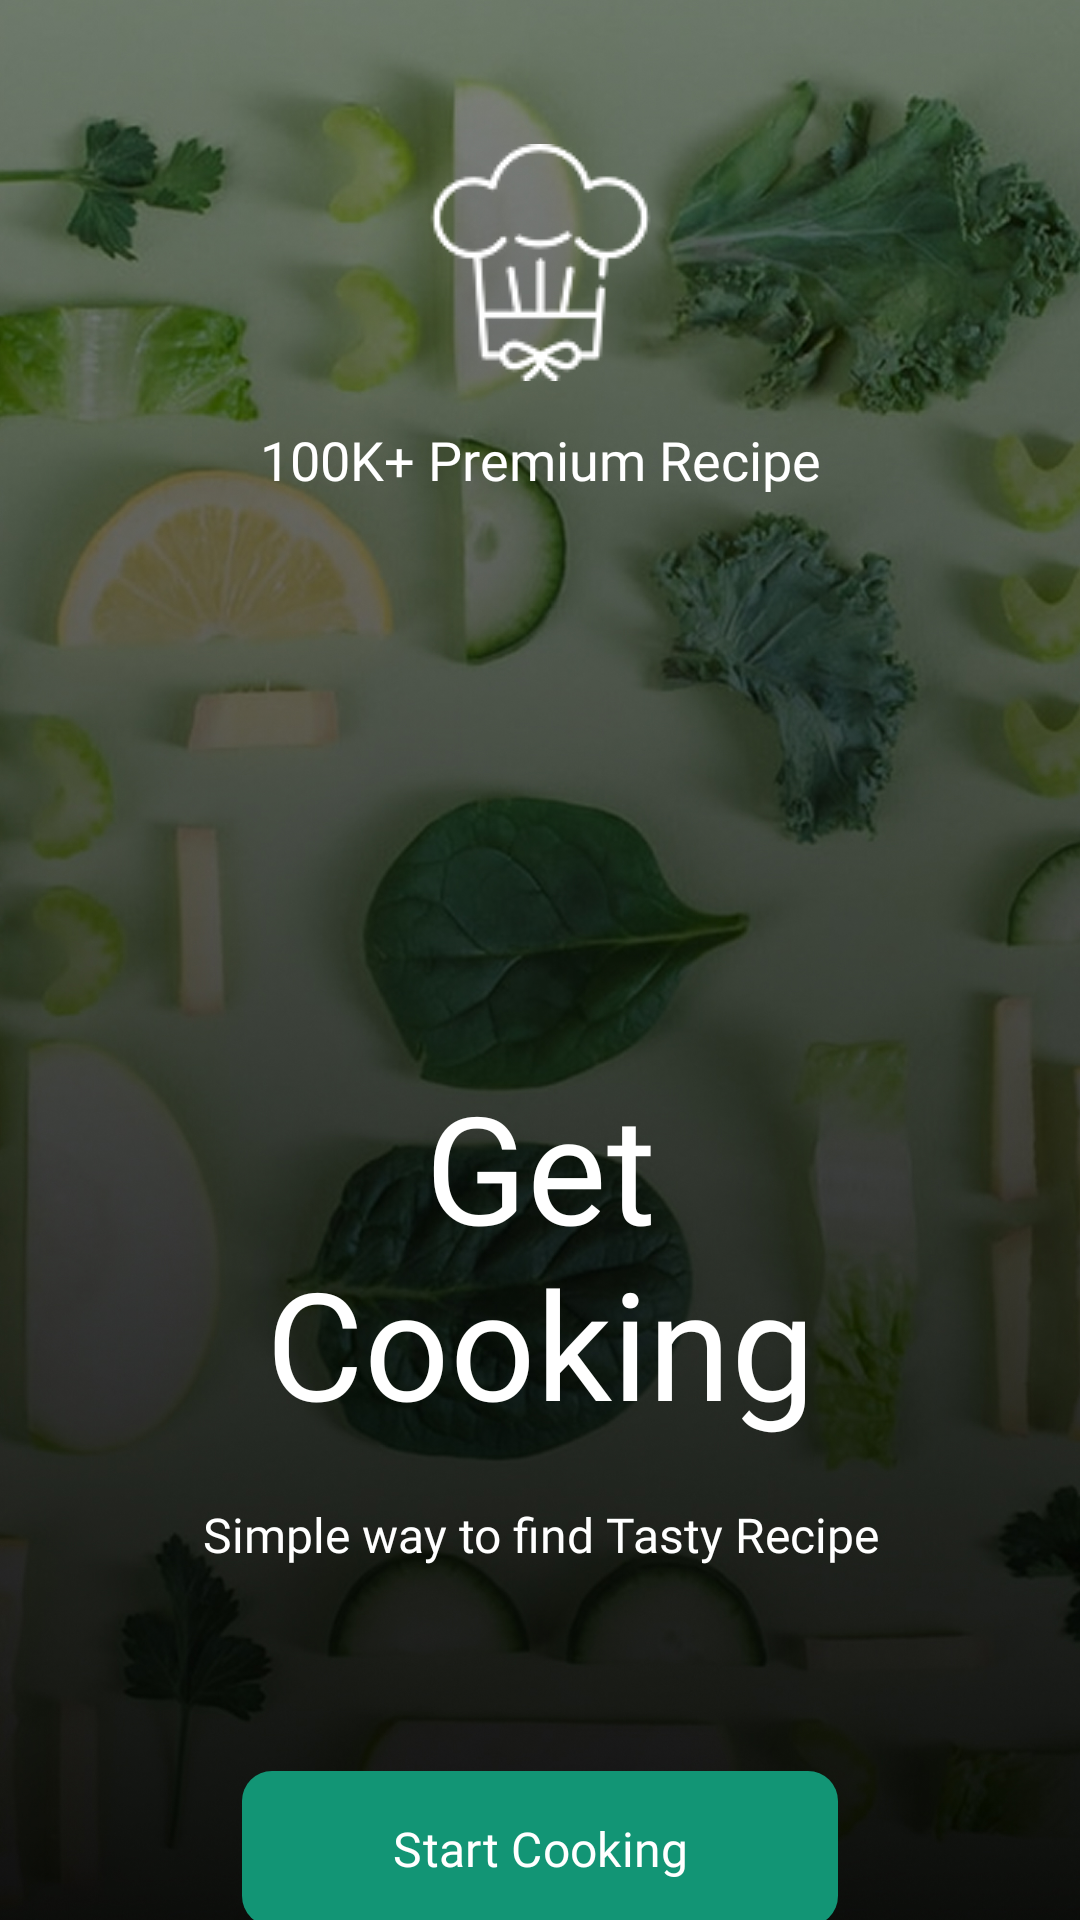

Named icons in this screenshot (1080*1920) and their centers, (x=x, y=y):
chef hat: (x=540, y=262)
